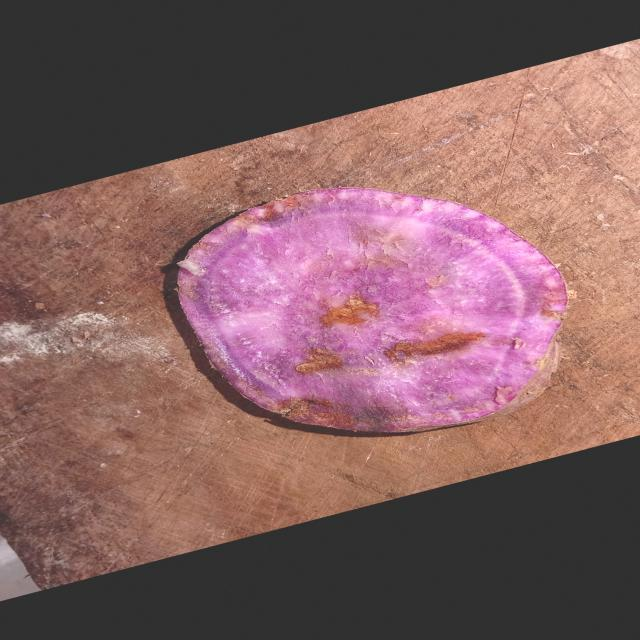Sick Sweet Potato_Tuber Rot: (178, 188, 567, 432)
